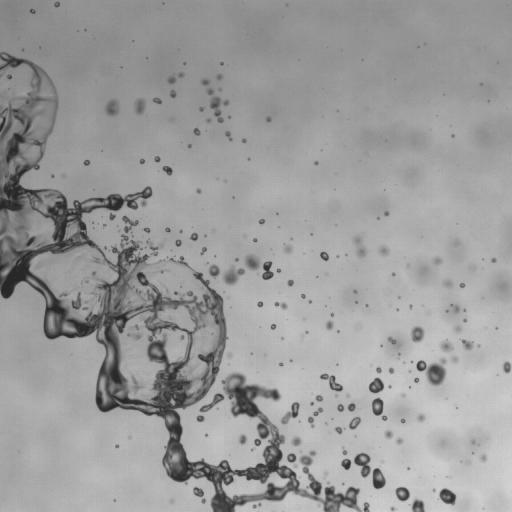droplet: (416, 358, 446, 385), (222, 266, 244, 285), (438, 488, 456, 505), (127, 324, 142, 341), (368, 377, 383, 394), (395, 486, 409, 501), (411, 326, 424, 342), (410, 498, 425, 511), (106, 99, 118, 115), (134, 98, 145, 114), (440, 340, 453, 352), (349, 417, 361, 429), (208, 264, 219, 277), (461, 339, 474, 349), (341, 458, 351, 469), (502, 361, 511, 373), (379, 245, 389, 255), (274, 302, 287, 309), (162, 166, 172, 175), (238, 434, 247, 444), (291, 437, 301, 446), (384, 430, 393, 439), (320, 251, 328, 260), (326, 320, 333, 330), (284, 245, 292, 253), (347, 403, 355, 411), (190, 233, 198, 240), (434, 256, 441, 264), (453, 325, 461, 332), (388, 336, 395, 344), (417, 413, 424, 421), (225, 131, 231, 140), (168, 76, 175, 83), (193, 128, 200, 135), (315, 394, 322, 401), (480, 455, 487, 462), (153, 97, 161, 103), (335, 427, 343, 433), (202, 79, 209, 85), (451, 356, 458, 362), (337, 404, 343, 411), (396, 437, 402, 444), (154, 156, 160, 162), (175, 240, 181, 246), (287, 280, 293, 286), (388, 367, 394, 373), (170, 90, 175, 97), (201, 247, 206, 254), (445, 280, 450, 287), (454, 305, 459, 312), (54, 1, 59, 7), (257, 301, 262, 307), (270, 324, 276, 329), (376, 367, 381, 373), (342, 448, 347, 454), (216, 74, 221, 79), (84, 160, 89, 165), (196, 188, 201, 193), (259, 219, 264, 224), (414, 377, 419, 382), (390, 506, 395, 511), (459, 283, 465, 287), (178, 73, 183, 77), (266, 117, 271, 121), (165, 227, 170, 231), (144, 228, 149, 232), (491, 258, 496, 262), (36, 263, 41, 267), (83, 277, 88, 281), (30, 9, 34, 13), (7, 74, 11, 78), (199, 107, 203, 111), (242, 138, 246, 142), (140, 159, 144, 163), (384, 211, 388, 215), (253, 238, 257, 242), (301, 294, 305, 298), (227, 353, 231, 357), (324, 472, 327, 477), (207, 118, 210, 122), (50, 259, 53, 263), (277, 268, 280, 272), (463, 318, 466, 322), (279, 362, 283, 365), (188, 144, 191, 147), (315, 161, 318, 164), (235, 258, 238, 261), (409, 305, 412, 308), (401, 393, 404, 396), (310, 402, 313, 405), (401, 419, 404, 422), (354, 290, 356, 293), (388, 385, 391, 387), (347, 394, 349, 397), (116, 444, 118, 447), (432, 489, 435, 491), (392, 273, 394, 275), (309, 300, 311, 302), (290, 359, 292, 361), (170, 500, 172, 502)
ligament: (0, 52, 369, 511), (354, 453, 385, 489), (207, 88, 228, 122), (245, 254, 273, 279), (320, 373, 342, 392), (281, 402, 299, 424), (372, 397, 387, 420), (308, 407, 322, 427), (354, 237, 366, 257), (193, 487, 205, 503)
